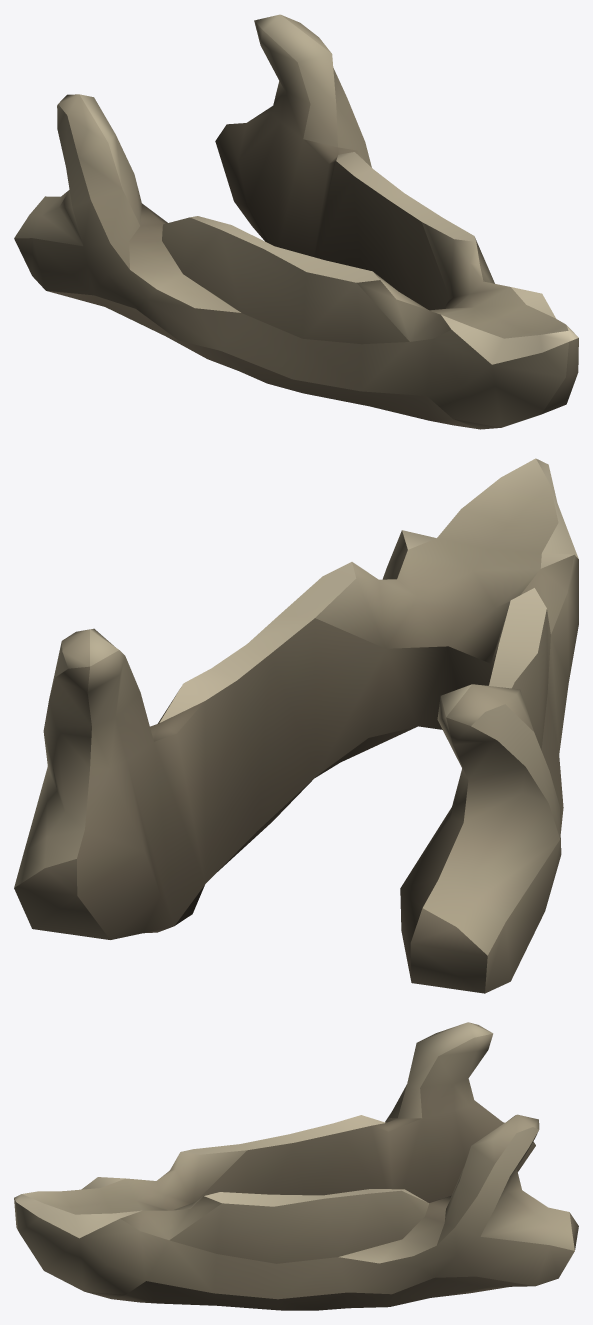
The model's file is Giant_Skull_2B.fbx.
3 views of the same model, one above another, from view 1: azimuth 30°, elevation 25°; view 2: azimuth 150°, elevation 25°; view 3: azimuth 270°, elevation 25° (orthographic). The views are drawn at different scales.
Parts seen in each view (by area): view 1: Giant_Skull_2B; view 2: Giant_Skull_2B; view 3: Giant_Skull_2B.
Boxes of the visible parts, left/top/right/bottom form: Giant_Skull_2B: left=14, top=14, right=578, bottom=429; Giant_Skull_2B: left=14, top=458, right=578, bottom=993; Giant_Skull_2B: left=14, top=1022, right=578, bottom=1310.
Size of the model in its own units: 0.7463 by 0.5178 by 1.37.
